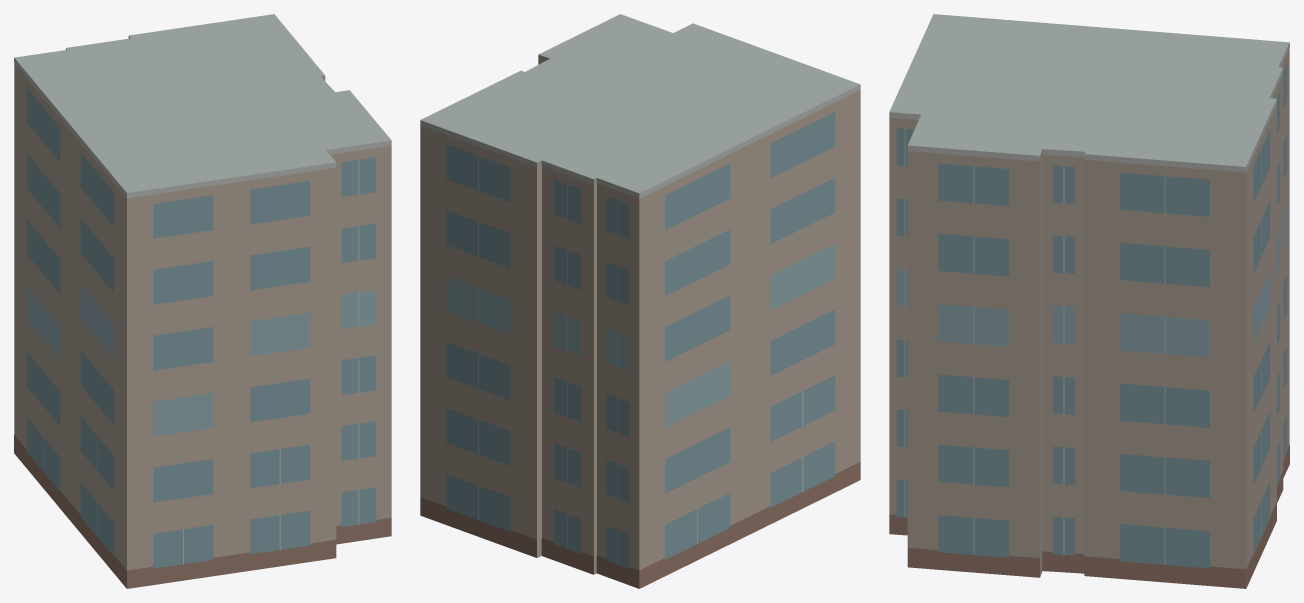
The model's file is survey-upis-32533737.glb.
The picture shows the model from 3 angles, left to right: view 1: azimuth 30°, elevation 25°; view 2: azimuth 150°, elevation 25°; view 3: azimuth 270°, elevation 25°; orthographic projection. The views are drawn at different scales.
Visible parts, largest first — view 1: survey-upis-32533737.tmp; view 2: survey-upis-32533737.tmp; view 3: survey-upis-32533737.tmp.
Part boxes in pixels (x1,y1,x2,y2): survey-upis-32533737.tmp: (14, 14, 391, 588); survey-upis-32533737.tmp: (420, 14, 860, 588); survey-upis-32533737.tmp: (889, 14, 1289, 588).
Size of the model in its own units: 14.24 by 18.3 by 15.76.
